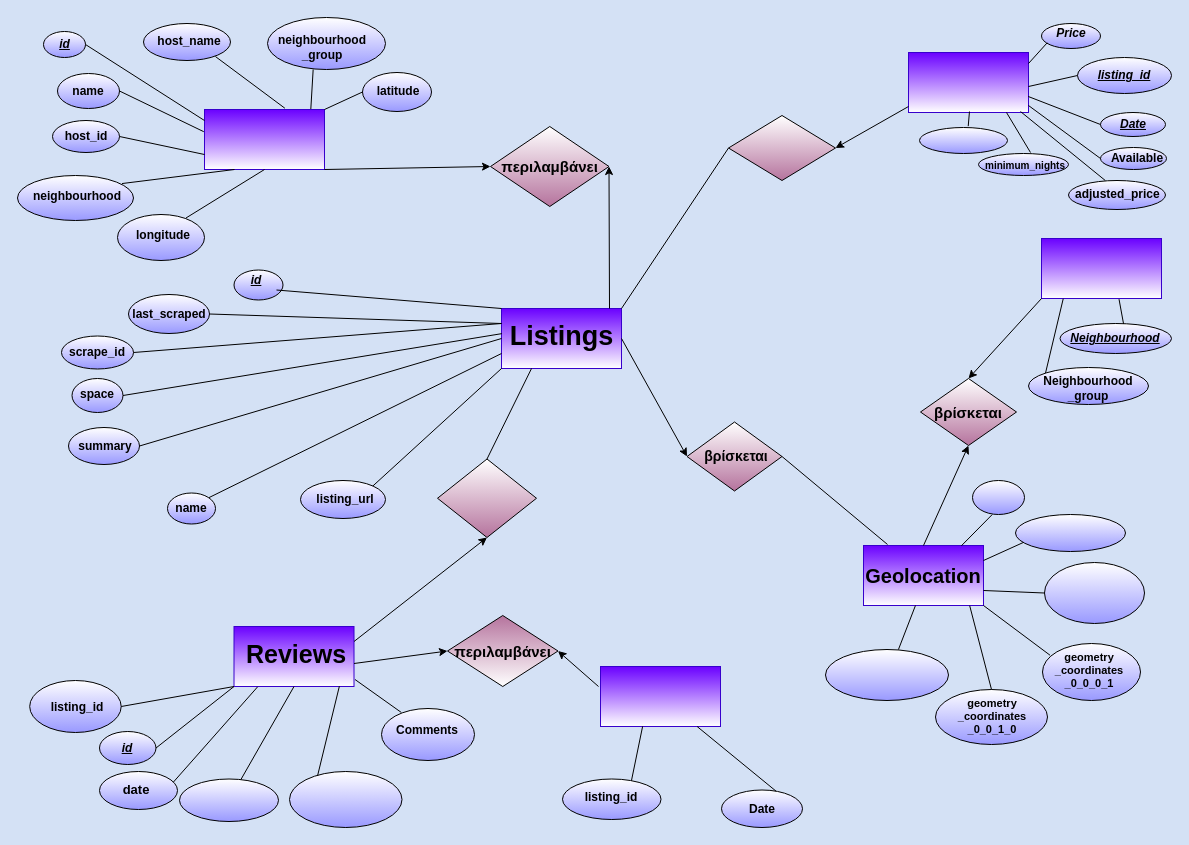
The diagram is 1189 pixels wide and 845 high, and some of its shapes have lost their labels. The shapes that lost their labels are listed below. From the top down, each one's centre as x and y in pixels, then its label:
At point 968,82: "Calendar".
At point 264,139: "Listings _summary".
At point 782,147: "κράτηση".
At point 963,140: "maximum_nights".
At point 1101,268: "Neighbourhoods".
At point 486,498: "αξιολογεί".
At point 998,497: "type".
At point 1070,533: "geometry_type".
At point 1094,593: "geometry _coordinates _0_0_0_0".
At point 886,674: "properties _neighbourhood".
At point 660,696: "Reviews _summary".
At point 228,800: "reviewer_id".
At point 345,799: "reviewer_name".
